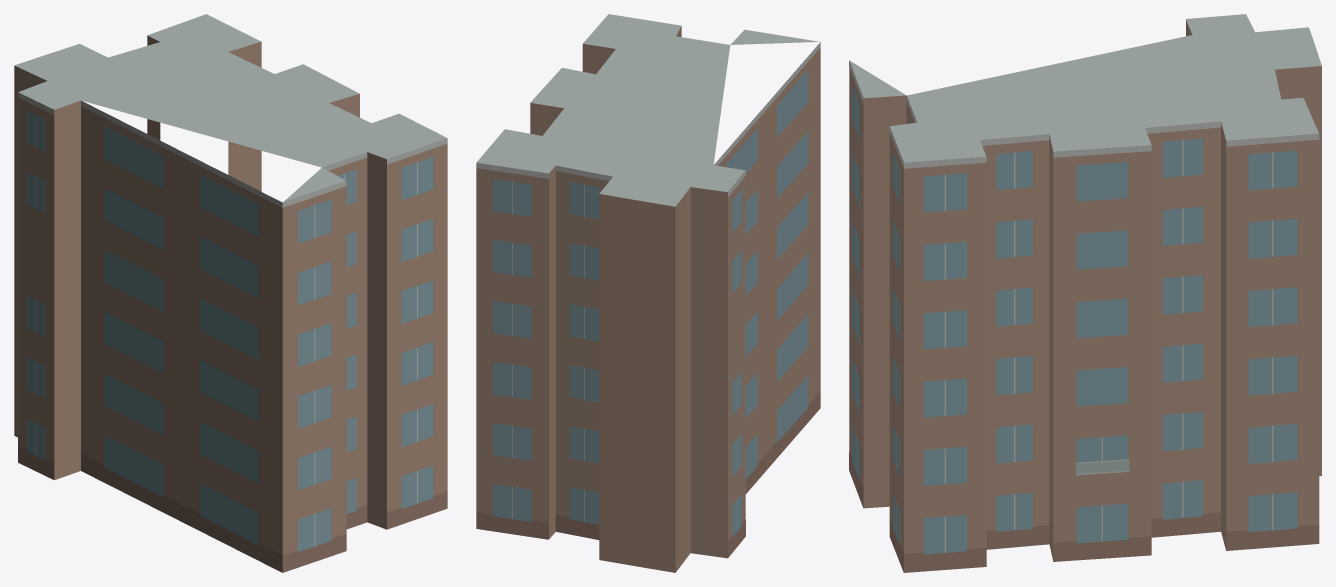
The model's file is survey-upis-32575365.glb.
3 renders of one model, left to right at view 1: azimuth 30°, elevation 25°; view 2: azimuth 150°, elevation 25°; view 3: azimuth 270°, elevation 25°, orthographic. The views are drawn at different scales.
Visible parts, largest first — view 1: survey-upis-32575365.tmp; view 2: survey-upis-32575365.tmp; view 3: survey-upis-32575365.tmp.
Boxes of the visible parts, x1,y1,x2,y2 form: survey-upis-32575365.tmp: (14,14,447,572); survey-upis-32575365.tmp: (476,14,820,572); survey-upis-32575365.tmp: (849,14,1321,572).
Bounding box in the file's own units: 13 × 16.7 × 17.45.
